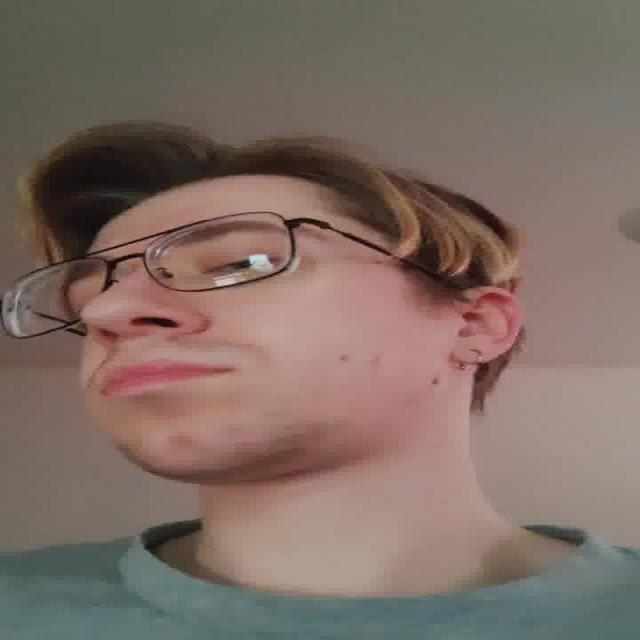earlobe: (452, 344, 502, 366)
eye: (194, 255, 281, 275)
nose: (90, 326, 198, 368)
wholeear: (451, 287, 528, 367)
